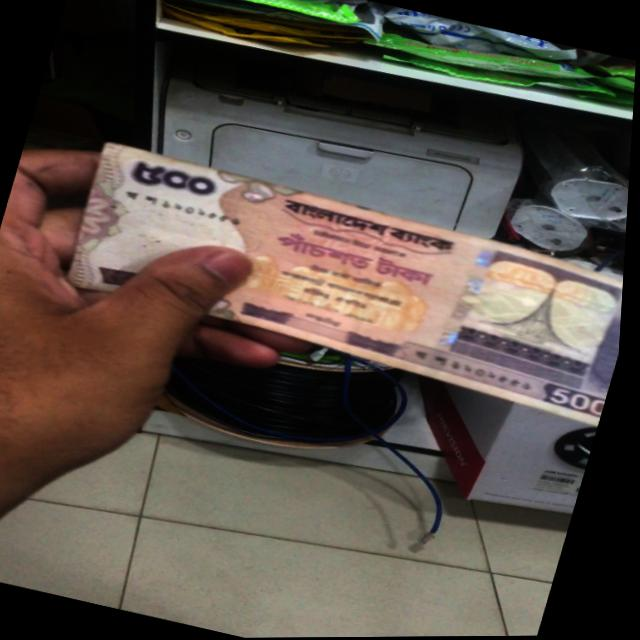Taka: (58, 139, 633, 425)
